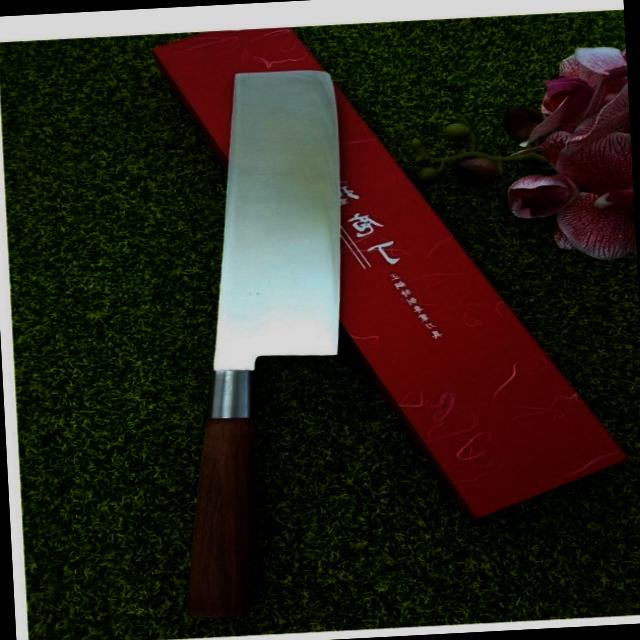knife: (148, 64, 390, 632)
